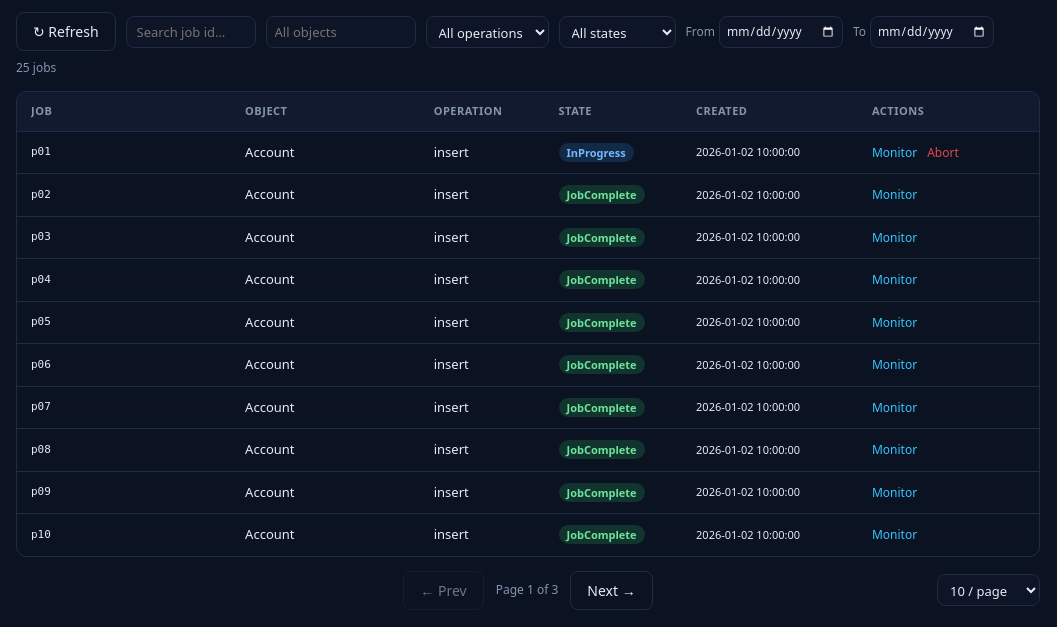
Test: JobsPanel › clamps the page back when a filter shrinks the list
The width and height of the screenshot is (1057, 627).
Click the button "Next →" at (612, 590), box [570, 570, 653, 610]
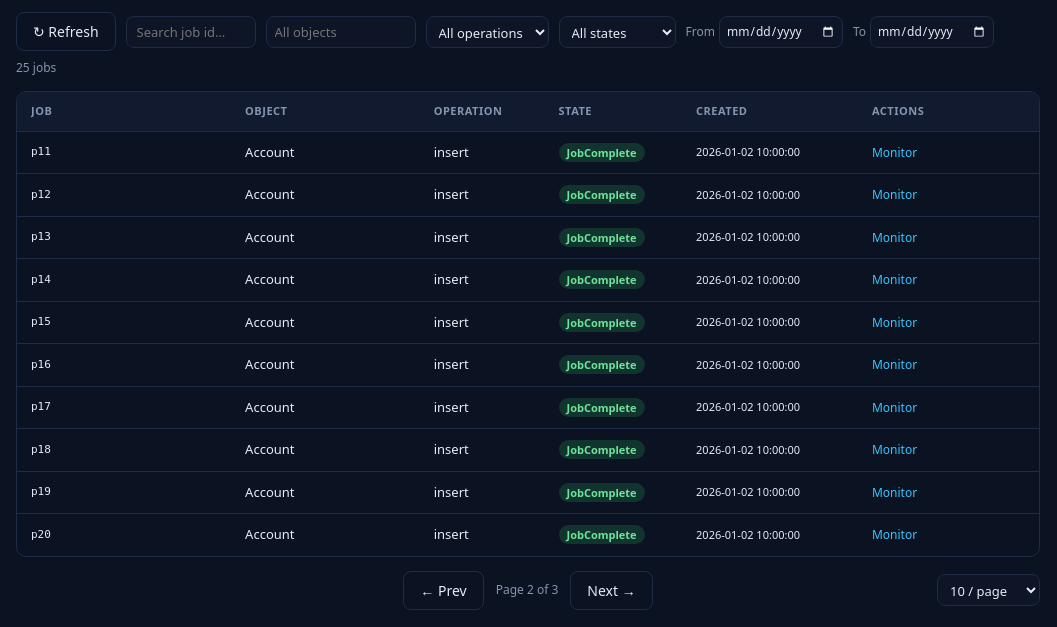
expect the text "Page 2 of 3" is shown: met, box [496, 581, 558, 598]
Select "InProgress" in the dropdown named "Filter by state" at (617, 32), box [558, 16, 676, 48]
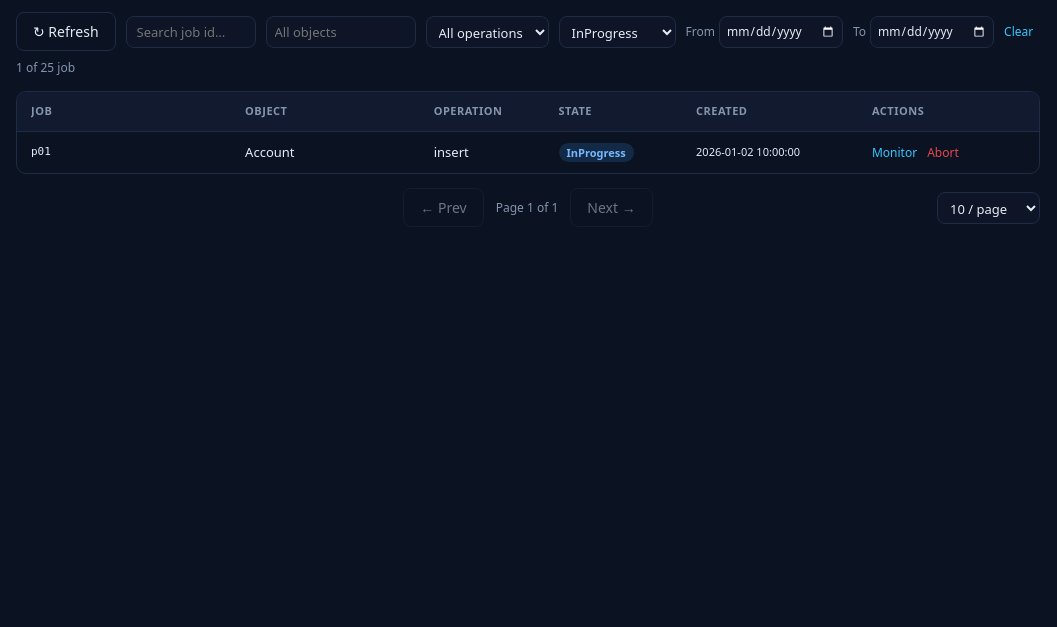
expect the text "Page 1 of 1" is shown: met, box [496, 198, 558, 216]
expect the text "p01" is shown: met, box [31, 145, 51, 158]
